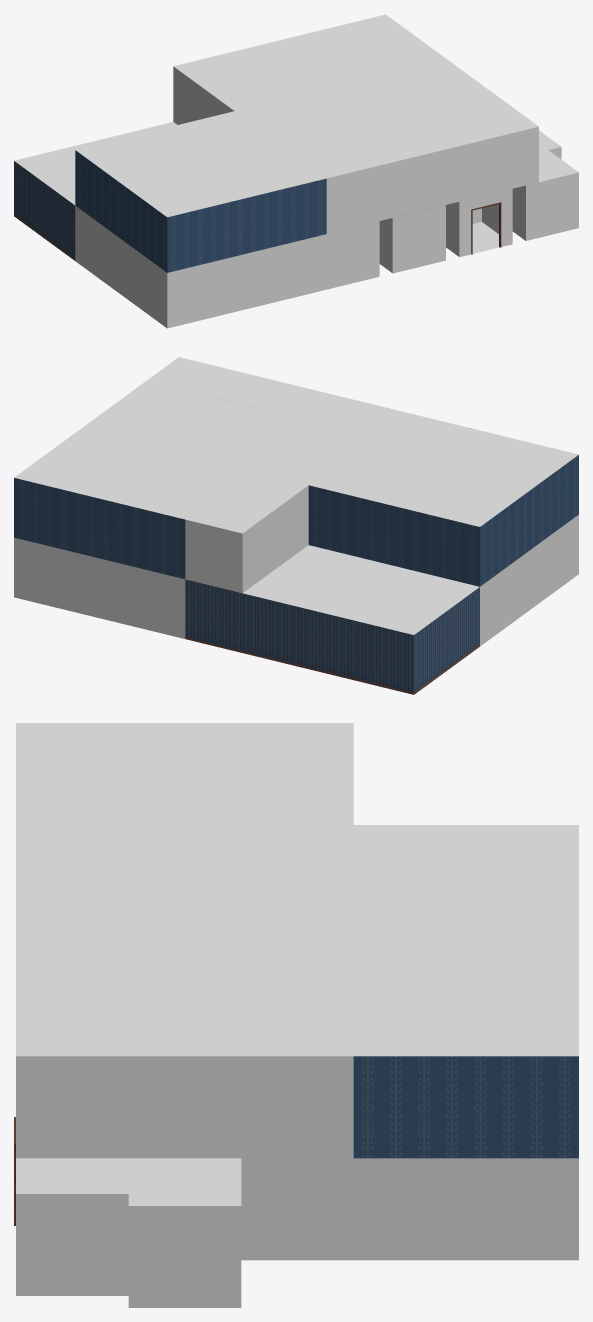
Rendered from jacks_apartment.fbx.
The picture shows the model from 3 angles, top to bottom: view 1: azimuth 30°, elevation 25°; view 2: azimuth 150°, elevation 25°; view 3: azimuth 270°, elevation 25°; orthographic projection. The views are drawn at different scales.
Parts seen in each view (by area): view 1: Jack's Apartment; view 2: Jack's Apartment; view 3: Jack's Apartment.
Part boxes in pixels (box(x1,y1,x2,y2)): Jack's Apartment: box(14, 14, 578, 328); Jack's Apartment: box(14, 357, 578, 694); Jack's Apartment: box(14, 723, 578, 1307).
Bounding box in the file's own units: 2500 × 625 × 1568.
Materials: 6 (4 with a texture image).
